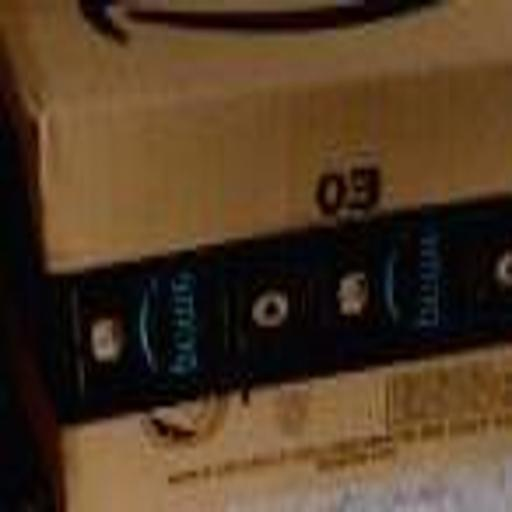Amazon: (42, 0, 512, 497)
